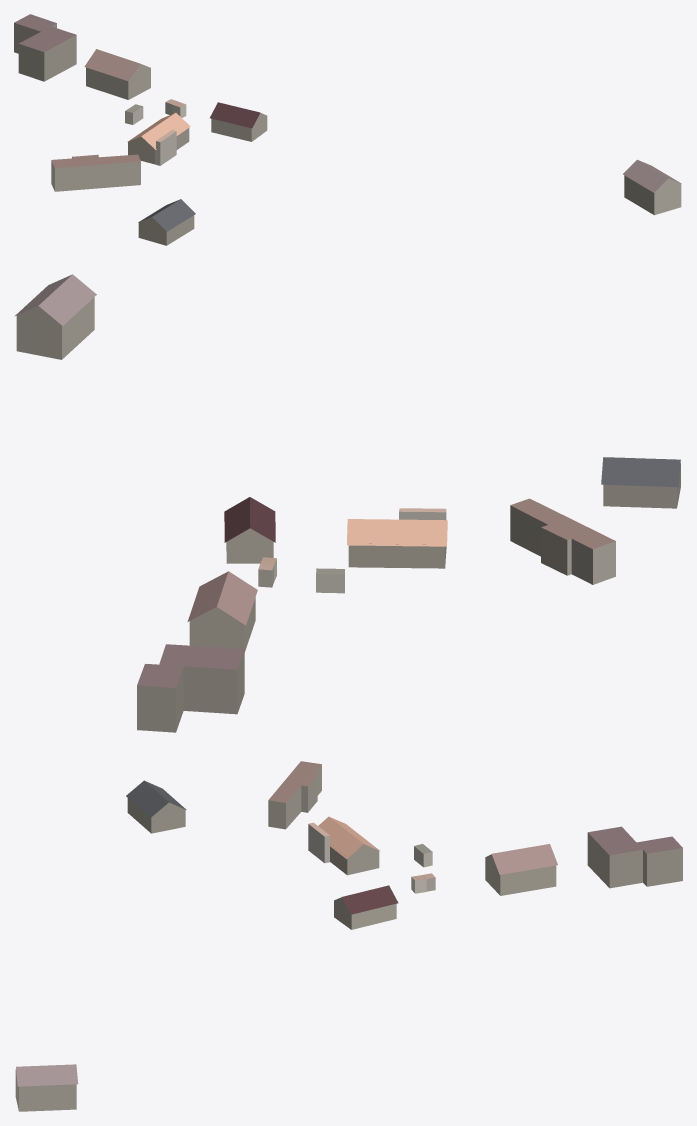
The picture shows the model from 3 angles, top to bottom: view 1: azimuth 30°, elevation 25°; view 2: azimuth 150°, elevation 25°; view 3: azimuth 270°, elevation 25°; orthographic projection. The views are drawn at different scales.
Visible parts, largest first — view 1: tuile; view 2: tuile; view 3: tuile.
Boxes of the visible parts, box(x1,y1,x2,y2) form: tuile: box(14, 14, 681, 245); tuile: box(14, 274, 680, 732); tuile: box(15, 761, 682, 1111).
Size of the model in its own units: 159 by 21.09 by 164.
